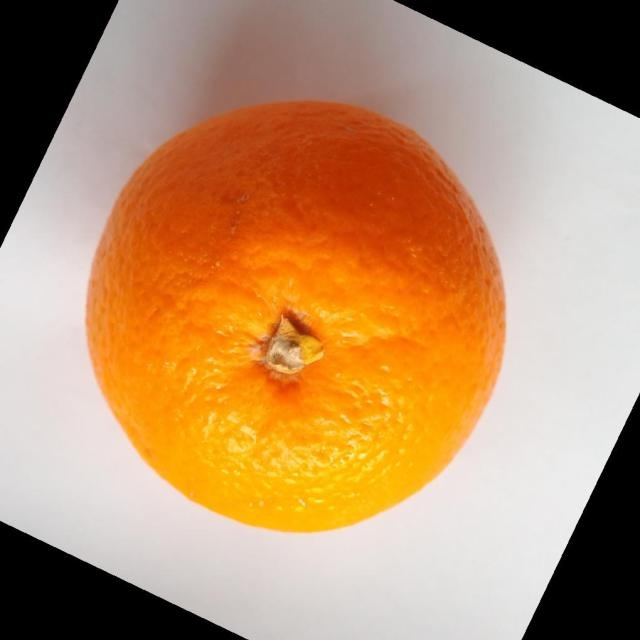agrume: (84, 98, 508, 533)
